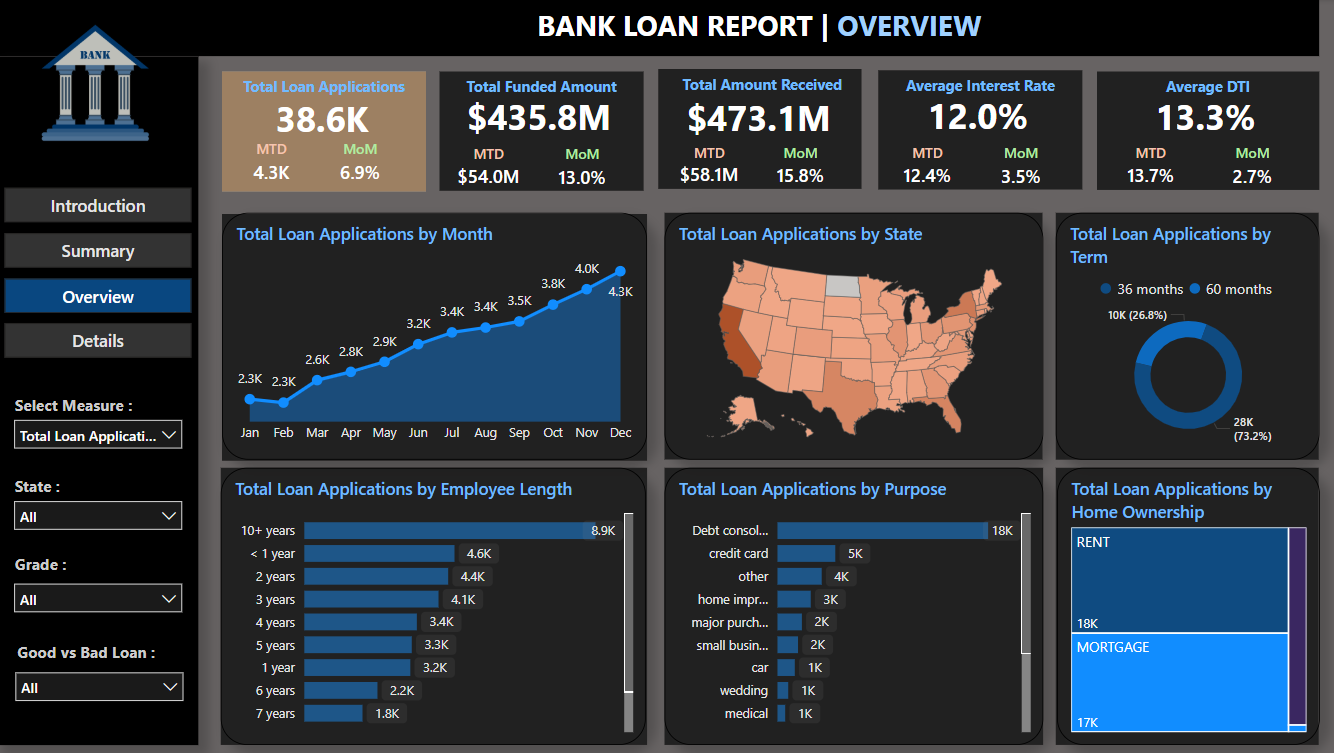

The dashboard page shown, as its layout file describes it:
{"tool":"powerbi","page":{"name":"Overview","canvas":[1280,720],"ordinal":2},"visuals":[{"type":"shape","box":[629.2,66.4,193.8,114.2],"z":0,"group":"g3"},{"type":"shape","box":[839.7,67.5,194.5,114],"z":0,"group":"g4"},{"type":"shape","box":[214.3,68.6,194.3,114.3],"z":0,"group":"g1"},{"type":"shape","box":[421.4,68.6,194.5,114],"z":0,"group":"g2"},{"type":"shape","box":[1047.5,69,211.7,112.9],"z":0,"group":"g5"},{"type":"shape","box":[214.3,204.3,405,235],"z":0},{"type":"shape","box":[0,0,1259.3,54.7],"z":1000},{"type":"card","fields":{"Values":["table_measures.avg_interest_rate"]},"box":[851.5,82.1,165.9,58.4],"z":1000,"group":"g4"},{"type":"card","fields":{"Values":["table_measures.total_loan_appl"]},"box":[247.2,83.2,124.3,61.3],"z":1000,"group":"g1"},{"type":"card","fields":{"Values":["table_measures.total_funded_amt"]},"box":[433.2,83.2,165.9,58.4],"z":1000,"group":"g2"},{"type":"card","fields":{"Values":["table_measures.avg_DTI"]},"box":[1060.3,83.4,180.6,57.8],"z":1000,"group":"g5"},{"type":"card","fields":{"Values":["table_measures.total_received_amt"]},"box":[643.2,85.3,163.1,55.8],"z":1000,"group":"g3"},{"type":"shape","box":[0,54.7,191.9,655.8],"z":2000},{"type":"textbox","box":[632.2,67,191,41.6],"z":2000,"group":"g3"},{"type":"textbox","box":[839.7,67.5,194.5,38.9],"z":2000,"group":"g4"},{"type":"textbox","box":[214.3,68.6,194.3,39],"z":2000,"group":"g1"},{"type":"textbox","box":[421.4,68.6,194.5,38.9],"z":2000,"group":"g2"},{"type":"textbox","box":[1047.5,69,211.7,38.5],"z":2000,"group":"g5"},{"type":"card","title":"MTD","fields":{"Values":["table_measures.MTD_loan_appl"]},"box":[235.7,132.7,51.4,50.2],"z":3000,"group":"g1"},{"type":"card","title":"MTD","fields":{"Values":["table_measures.MTD_interest_rate"]},"box":[851.5,136.3,70.1,48.6],"z":3000,"group":"g4"},{"type":"card","title":"MTD","fields":{"Values":["table_measures.MTD_received_amt"]},"box":[643.2,137.1,68.9,46.5],"z":3000,"group":"g3"},{"type":"card","title":"MTD","fields":{"Values":["table_measures.MTD_avg_DTI"]},"box":[1060.3,137.1,76.3,48.2],"z":3000,"group":"g5"},{"type":"card","title":"MTD","fields":{"Values":["table_measures.MTD_funded_amt"]},"box":[433.2,137.4,70.1,48.6],"z":3000,"group":"g2"},{"type":"textbox","box":[12.4,448.7,119.7,38.5],"z":3000},{"type":"textbox","box":[509.2,1.4,447.3,49.5],"z":4000},{"type":"card","title":"MoM","fields":{"Values":["table_measures.MOM_loan_appl"]},"box":[320,132.7,51.4,50.2],"z":4000,"group":"g1"},{"type":"card","title":"MoM","fields":{"Values":["table_measures.MOM_interest_rate"]},"box":[946.6,136.1,57.8,49.7],"z":4000,"group":"g4"},{"type":"card","title":"MoM","fields":{"Values":["table_measures.MOM_received_amt"]},"box":[736.7,136.9,56.8,47.5],"z":4000,"group":"g3"},{"type":"card","title":"MoM","fields":{"Values":["table_measures.MOM_avg_DTI"]},"box":[1163.9,136.9,62.9,49.2],"z":4000,"group":"g5"},{"type":"card","title":"MoM","fields":{"Values":["table_measures.MOM_funded_amt"]},"box":[528.3,137.2,57.8,49.7],"z":4000,"group":"g2"},{"type":"group","id":"g1","title":"Group 1","box":[214.3,68.6,194.3,114.3],"z":5000},{"type":"group","id":"g2","title":"Group 1","box":[421.4,68.6,194.3,118],"z":6000},{"type":"group","id":"g3","title":"Group 1","box":[629.2,66.4,194,118],"z":7000},{"type":"group","id":"g4","title":"Group 1","box":[839.7,67.5,194.5,118.2],"z":8000},{"type":"group","id":"g5","title":"Group 1","box":[1047.5,69,211.5,116.9],"z":9000},{"type":"shape","box":[635.9,203.7,360,235],"z":10000},{"type":"slicer","fields":{"Values":["financial_loan.address_state"]},"box":[5.5,468,180.3,50.9],"z":11000},{"type":"slicer","fields":{"Values":["financial_loan.grade"]},"box":[5.5,546.4,180.3,50.9],"z":12000},{"type":"textbox","box":[12.4,523,119.7,38.5],"z":13000},{"type":"slicer","fields":{"Values":["financial_loan.Good vs Band Loan"]},"box":[6.9,630.4,180.3,50.9],"z":14000},{"type":"textbox","box":[13.8,607,163.8,38.5],"z":15000},{"type":"areaChart","fields":{"Y":["table_measures.total_loan_appl"],"Category":["Date Table.Month"]},"box":[214.7,203.7,404.6,235.4],"z":16000},{"type":"slicer","fields":{"Values":["Select Measure.Select Measure"]},"box":[5.5,390.9,180.3,55.1],"z":17000},{"type":"shape","box":[213.3,445.9,406,264.3],"z":18000},{"type":"shapeMap","fields":{"Value":["table_measures.total_loan_appl"],"Category":["financial_loan.address_state"]},"box":[635.9,203.7,360.6,235.4],"z":19000},{"type":"shape","box":[1008.9,203.7,250.5,235.4],"z":20000},{"type":"donutChart","fields":{"Y":["table_measures.total_loan_appl"],"Category":["financial_loan.term"]},"box":[1008.1,203.5,251.2,234.9],"z":21000},{"type":"barChart","fields":{"Y":["table_measures.total_loan_appl"],"Category":["financial_loan.emp_length"]},"box":[213.3,445.9,404.6,264.3],"z":22000},{"type":"textbox","box":[12.4,371.6,139,38.5],"z":23000},{"type":"shape","box":[635.9,445.9,360.6,264.3],"z":24000},{"type":"barChart","fields":{"Y":["table_measures.total_loan_appl"],"Category":["financial_loan.purpose"]},"box":[635.9,445.9,360.6,264.3],"z":25000},{"type":"shape","box":[1008.9,445.9,250.5,264.3],"z":26000},{"type":"treemap","fields":{"Values":["table_measures.total_loan_appl"],"Group":["financial_loan.home_ownership"]},"box":[1009.3,446.5,250,264],"z":27000},{"type":"pageNavigator","box":[6.9,180.3,178.9,163.8],"z":28000},{"type":"image","box":[0,1.4,187.2,156.9],"z":29000}]}

Visuals, with their boxes in screenshot pixels (x1, y1, x2, y2), scaled from the page's 1280x720 canvas onto the 1334x753 screenshot:
shape: (x1=656, y1=69, x2=858, y2=189)
shape: (x1=875, y1=71, x2=1078, y2=190)
shape: (x1=223, y1=72, x2=426, y2=191)
shape: (x1=439, y1=72, x2=642, y2=191)
shape: (x1=1092, y1=72, x2=1312, y2=190)
shape: (x1=223, y1=214, x2=645, y2=459)
shape: (x1=0, y1=0, x2=1312, y2=57)
card - table_measures.avg_interest_rate: (x1=887, y1=86, x2=1060, y2=147)
card - table_measures.total_loan_appl: (x1=258, y1=87, x2=387, y2=151)
card - table_measures.total_funded_amt: (x1=451, y1=87, x2=624, y2=148)
card - table_measures.avg_DTI: (x1=1105, y1=87, x2=1293, y2=148)
card - table_measures.total_received_amt: (x1=670, y1=89, x2=840, y2=148)
shape: (x1=0, y1=57, x2=200, y2=743)
textbox: (x1=659, y1=70, x2=858, y2=114)
textbox: (x1=875, y1=71, x2=1078, y2=111)
textbox: (x1=223, y1=72, x2=426, y2=113)
textbox: (x1=439, y1=72, x2=642, y2=112)
textbox: (x1=1092, y1=72, x2=1312, y2=112)
"MTD" card: (x1=246, y1=139, x2=299, y2=191)
"MTD" card: (x1=887, y1=143, x2=960, y2=193)
"MTD" card: (x1=670, y1=143, x2=742, y2=192)
"MTD" card: (x1=1105, y1=143, x2=1185, y2=194)
"MTD" card: (x1=451, y1=144, x2=525, y2=195)
textbox: (x1=13, y1=469, x2=138, y2=510)
textbox: (x1=531, y1=1, x2=997, y2=53)
"MoM" card: (x1=334, y1=139, x2=387, y2=191)
"MoM" card: (x1=987, y1=142, x2=1047, y2=194)
"MoM" card: (x1=768, y1=143, x2=827, y2=193)
"MoM" card: (x1=1213, y1=143, x2=1279, y2=195)
"MoM" card: (x1=551, y1=143, x2=611, y2=195)
"Group 1" group: (x1=223, y1=72, x2=426, y2=191)
"Group 1" group: (x1=439, y1=72, x2=642, y2=195)
"Group 1" group: (x1=656, y1=69, x2=858, y2=193)
"Group 1" group: (x1=875, y1=71, x2=1078, y2=194)
"Group 1" group: (x1=1092, y1=72, x2=1312, y2=194)
shape: (x1=663, y1=213, x2=1038, y2=459)
slicer - financial_loan.address_state: (x1=6, y1=489, x2=194, y2=543)
slicer - financial_loan.grade: (x1=6, y1=571, x2=194, y2=625)
textbox: (x1=13, y1=547, x2=138, y2=587)
slicer - financial_loan.Good vs Band Loan: (x1=7, y1=659, x2=195, y2=713)
textbox: (x1=14, y1=635, x2=185, y2=675)
areaChart - table_measures.total_loan_appl x Date Table.Month: (x1=224, y1=213, x2=645, y2=459)
slicer - Select Measure.Select Measure: (x1=6, y1=409, x2=194, y2=466)
shape: (x1=222, y1=466, x2=645, y2=743)
shapeMap - table_measures.total_loan_appl x financial_loan.address_state: (x1=663, y1=213, x2=1039, y2=459)
shape: (x1=1051, y1=213, x2=1313, y2=459)
donutChart - table_measures.total_loan_appl x financial_loan.term: (x1=1051, y1=213, x2=1312, y2=458)
barChart - table_measures.total_loan_appl x financial_loan.emp_length: (x1=222, y1=466, x2=644, y2=743)
textbox: (x1=13, y1=389, x2=158, y2=429)
shape: (x1=663, y1=466, x2=1039, y2=743)
barChart - table_measures.total_loan_appl x financial_loan.purpose: (x1=663, y1=466, x2=1039, y2=743)
shape: (x1=1051, y1=466, x2=1313, y2=743)
treemap - table_measures.total_loan_appl x financial_loan.home_ownership: (x1=1052, y1=467, x2=1312, y2=743)
pageNavigator: (x1=7, y1=189, x2=194, y2=360)
image: (x1=0, y1=1, x2=195, y2=166)
